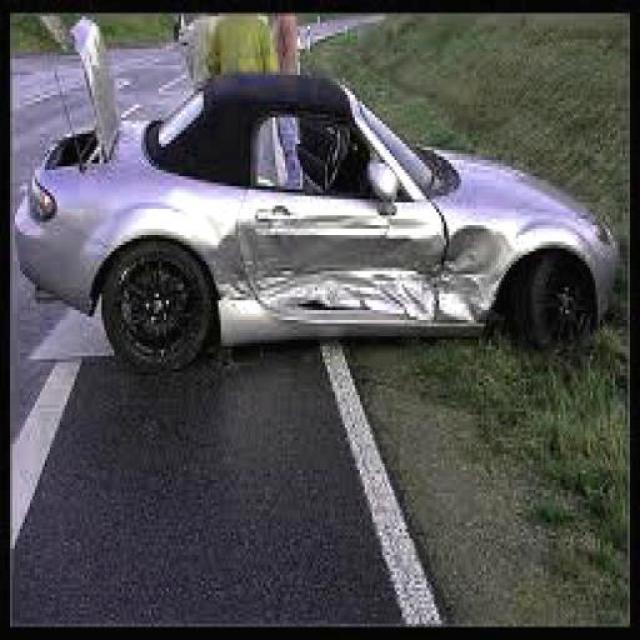car damage: (215, 213, 521, 331)
